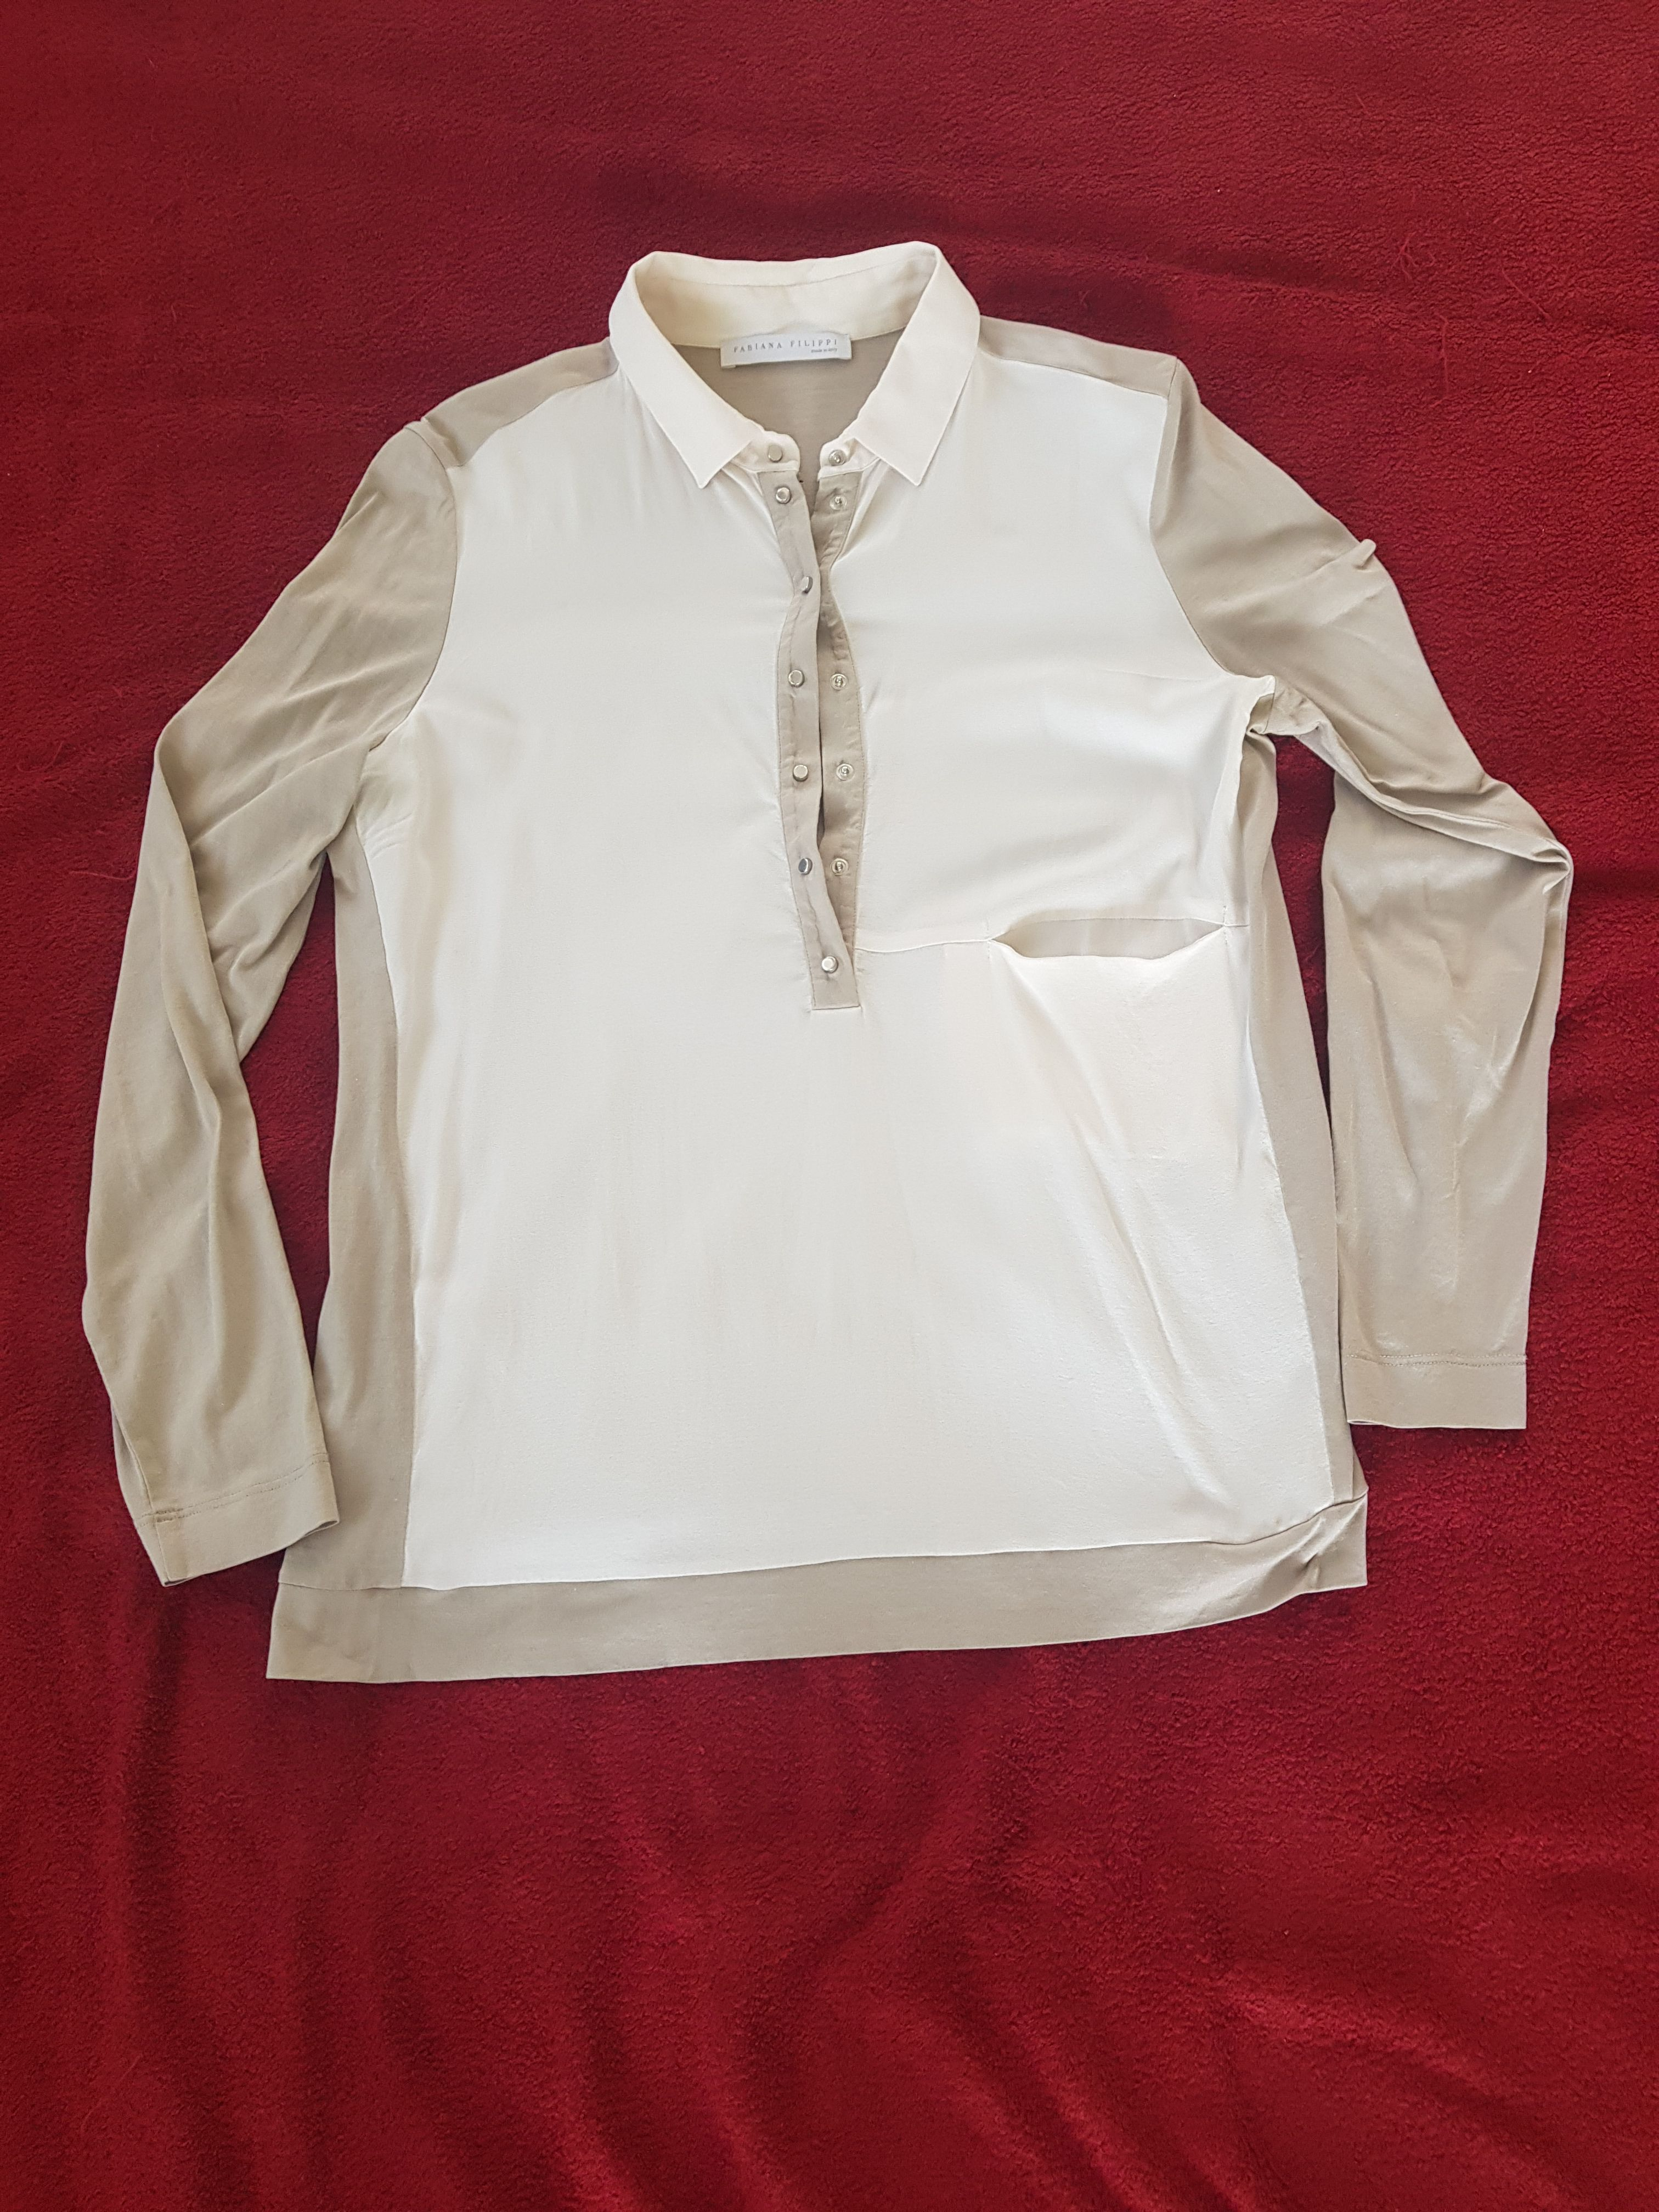clothes: (58, 214, 1575, 1710)
